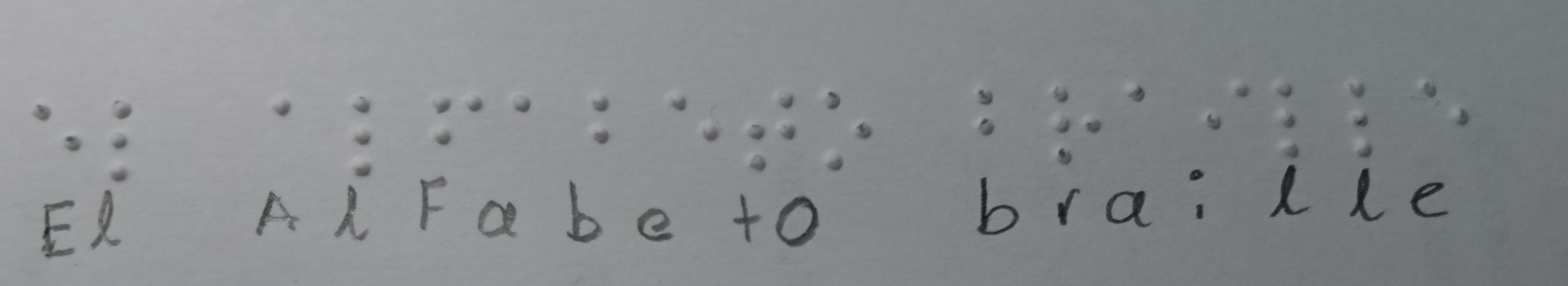a: (249, 89, 313, 177), (1104, 49, 1169, 131), (490, 57, 555, 136)
b: (566, 57, 633, 163), (947, 57, 1013, 159)
e: (1399, 51, 1485, 145), (20, 81, 92, 181), (660, 81, 729, 172)
f: (409, 73, 494, 171)
i: (1184, 51, 1256, 157)
l: (94, 73, 170, 191), (1265, 49, 1331, 163), (329, 77, 392, 181), (1339, 43, 1391, 164)
o: (811, 67, 884, 187)
r: (1034, 65, 1112, 180)
t: (737, 77, 808, 185)
